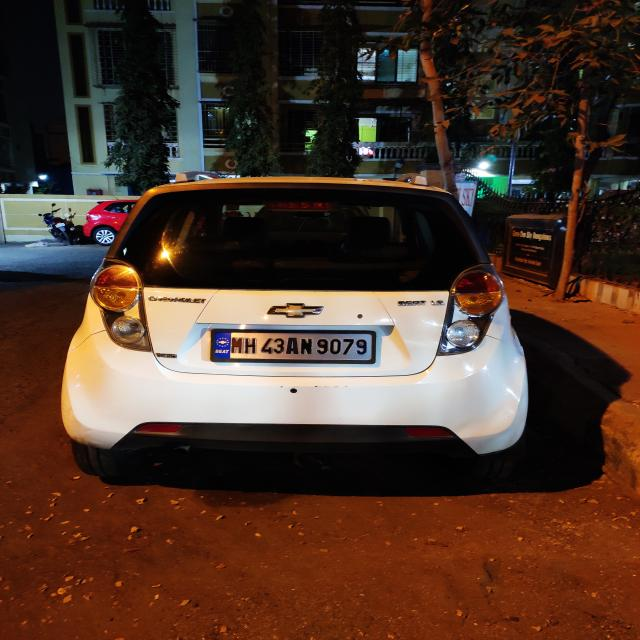Number-Plate: (212, 332, 374, 362)
